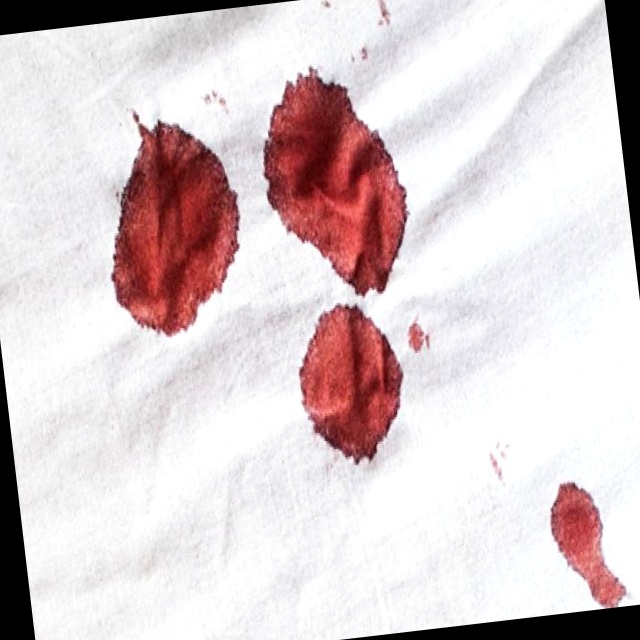blood: (261, 67, 417, 305), (98, 105, 246, 339), (294, 304, 409, 465), (542, 475, 633, 614)
